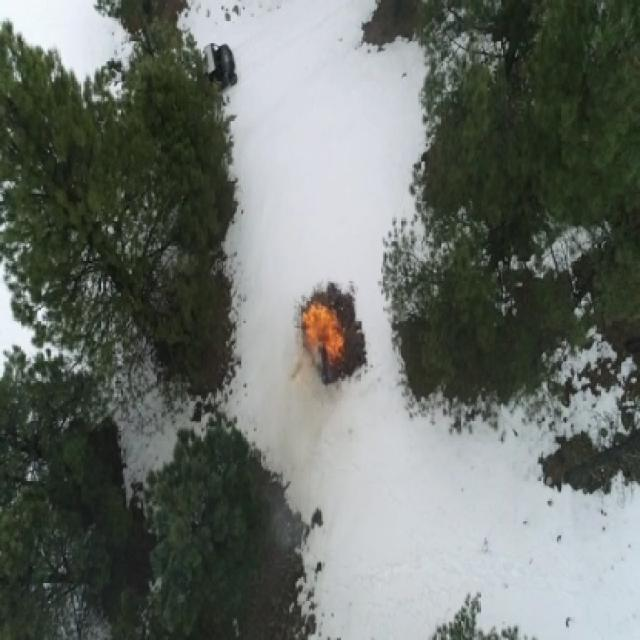Fire: (298, 300, 347, 375)
